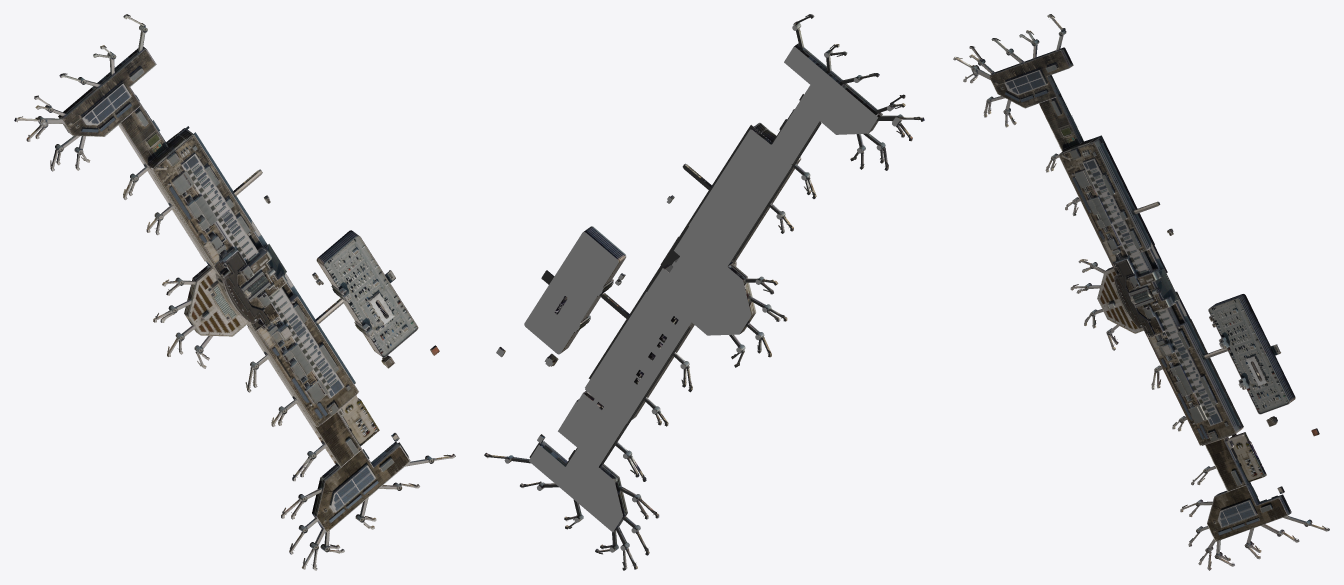
Rendered from 53392652_bldg_6677.obj.
3 views of the same model, side by side, from view 1: azimuth 30°, elevation 25°; view 2: azimuth 150°, elevation 25°; view 3: azimuth 330°, elevation 25° (orthographic). The views are drawn at different scales.
Bounding box in the file's own units: 691 × 904 × 39.38.
7 materials, 7 textured.
